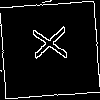X: (24, 25, 67, 62)
